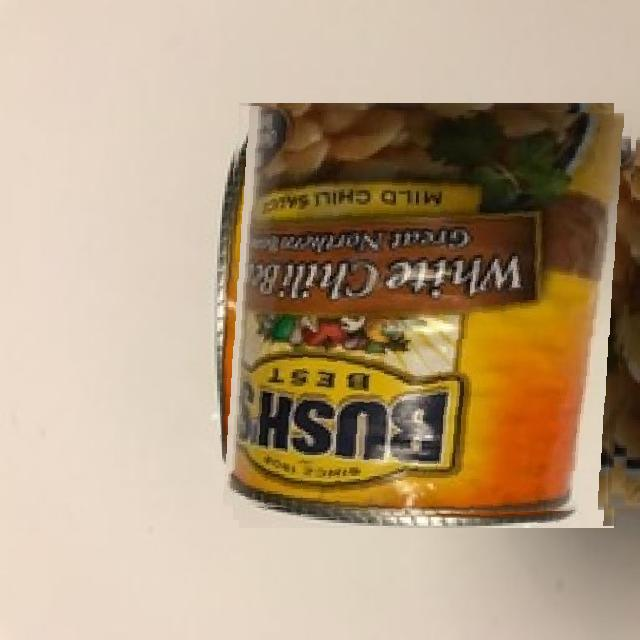recyclable: (222, 110, 632, 521)
